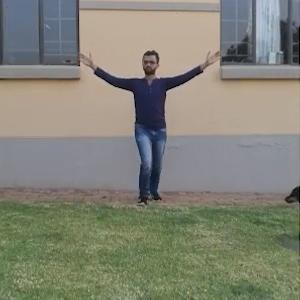takeoff: (72, 45, 212, 195)
